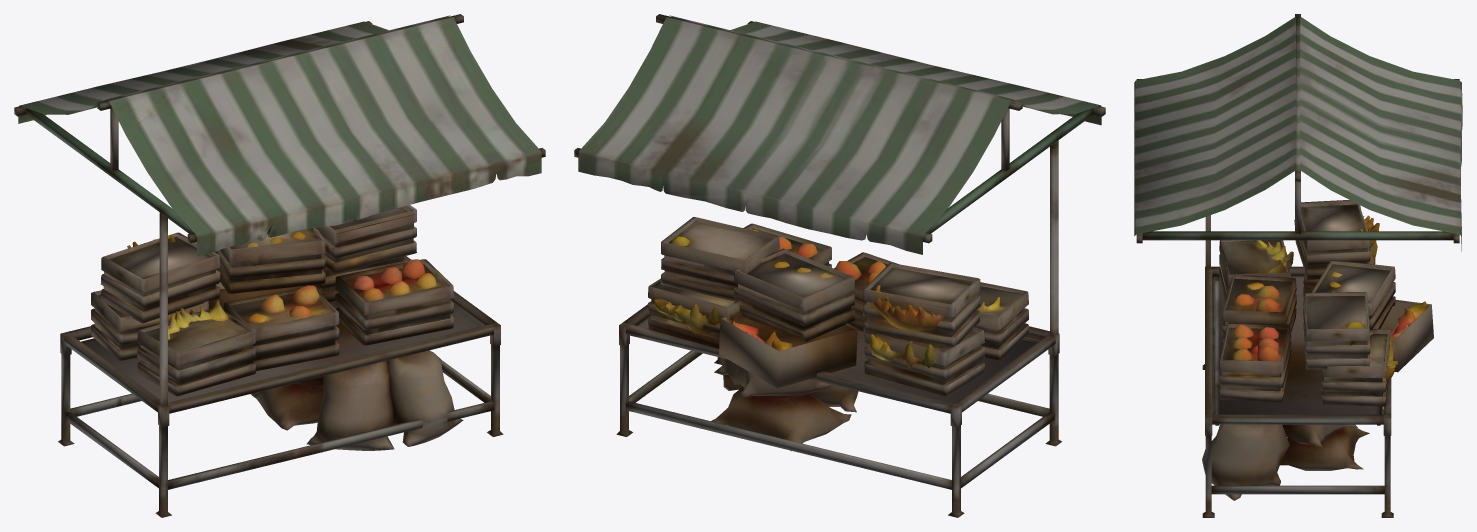
Rendered from javaporcos_mint_banca_feira.glb.
3 renders of one model, left to right at view 1: azimuth 30°, elevation 25°; view 2: azimuth 150°, elevation 25°; view 3: azimuth 270°, elevation 25°, orthographic. The views are drawn at different scales.
Parts seen in each view (by area): view 1: Banca de feira; view 2: Banca de feira; view 3: Banca de feira.
Boxes of the visible parts, x1,y1,x2,y2 form: Banca de feira: (14, 14, 545, 517); Banca de feira: (574, 14, 1105, 517); Banca de feira: (1134, 14, 1462, 517).
Bounding box in the file's own units: 2.4 × 2.4 × 2.05.
Materials: 1 (1 with a texture image).
